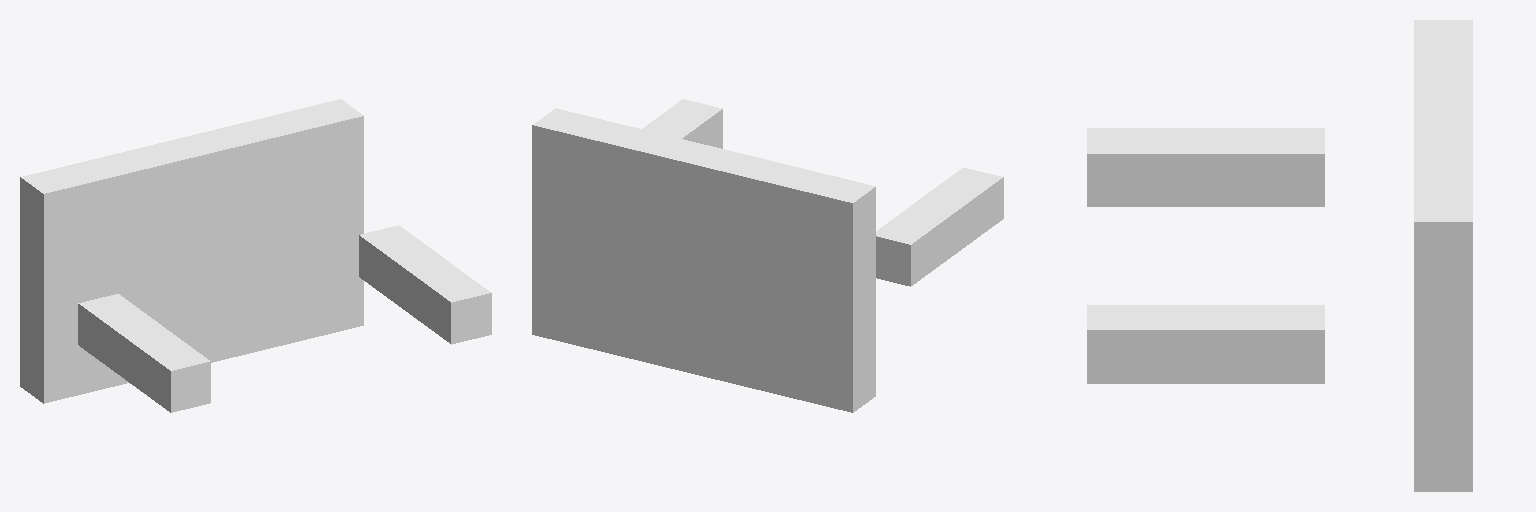
URDF robot description (visual):
<?xml version="1.0"?>
<robot name="visual">
<!-- [author], March 2021 -->
<!-- basic 2-fingers gripper -->
  <link name="base">
  <inertial>
    <mass value="0.1"/>
    <inertia ixx="1" ixy="0" ixz="0" iyy="1" iyz="0" izz="1" />
    <origin/>
  </inertial>
    <visual>
      <geometry>
        <box size="0.08 0.01 0.05"/>
      </geometry>
      <origin rpy="0 0 0" xyz="0 0 0"/>
      <material name="B">
        <color rgba="1 1 1 1"/>
      </material>
    </visual>
  <collision>
      <origin rpy="0 0 0" xyz="0 -0.1 0"/>
    <geometry>
        <box size="0.08 .02 .03"/>
    </geometry>
    <contact_coefficients mu="0" kp="1000.0" kd="1.0"/>
  </collision>
  </link>

  <link name="left_fingertip">
  <inertial>
    <mass value="0.1"/>
    <inertia ixx="1" ixy="0" ixz="0" iyy="1" iyz="0" izz="1" />
    <origin/>
  </inertial>
    <visual>
      <geometry>
        <box size="0.01 .04 .01"/>
      </geometry>
      <origin rpy="0 0 0" xyz="0 0 0"/>
      <material name="white">
        <color rgba="1 1 1 1"/>
      </material>
    </visual>
  <collision>
      <origin rpy="0 0 0" xyz="0 0 0"/>
    <geometry>
        <box size="0.01 .04 .01"/>
    </geometry>
    <contact_coefficients mu="0" kp="1000.0" kd="1.0"/>
  </collision>
  </link>

  <joint name="base_to_left_fingertip" type="prismatic">
    <axis xyz="1 0 0"/>
    <limit effort="1.0" lower="0" upper="1" velocity="0.1"/>
    <parent link="base"/>
    <child link="left_fingertip"/>
    <origin xyz="-0.035 -0.04 0.0"/>
  </joint>

  <link name="right_fingertip">
  <inertial>
    <mass value="0.1"/>
    <inertia ixx="1" ixy="0" ixz="0" iyy="1" iyz="0" izz="1" />
    <origin/>
  </inertial>
    <visual>
      <geometry>
        <box size="0.01 .04 .01"/>
      </geometry>
      <origin rpy="0 0 0" xyz="0 0 0"/>
      <material name="white">
        <color rgba="1 1 1 1"/>
      </material>
    </visual>
  <collision>
     <origin rpy="0 0 0" xyz="0 0 0"/>
    <geometry>
        <box size="0.01 .04 .01"/>
    </geometry>
    <contact_coefficients mu="0" kp="1000.0" kd="1.0"/>
  </collision>
  </link>

  <joint name="base_to_right_fingertip" type="prismatic">
    <axis xyz="1 0 0"/>
    <limit effort="1.0" lower="-1" upper="0.0" velocity="0.1"/>
    <parent link="base"/>
    <child link="right_fingertip"/>
    <origin xyz="0.035 -0.04 -0.00"/>
  </joint>

</robot>

--- Facts derived from the render (not from the file) ---
3 views of the same robot in one strip: view 1: azimuth 30°, elevation 25°; view 2: azimuth 150°, elevation 25°; view 3: azimuth 270°, elevation 25° (orthographic).
Robot: visual — 3 links, 2 joints (2 prismatic); root link base; default pose: every joint at zero.
Visible links, largest first — view 1: base, right_fingertip, left_fingertip; view 2: base, left_fingertip, right_fingertip; view 3: base, left_fingertip, right_fingertip.
Link boxes in pixels (left/top/right/bottom): base: left=20, top=99, right=363, bottom=403; right_fingertip: left=359, top=225, right=491, bottom=344; left_fingertip: left=78, top=294, right=210, bottom=412; base: left=532, top=108, right=875, bottom=412; left_fingertip: left=876, top=167, right=1003, bottom=286; right_fingertip: left=642, top=99, right=722, bottom=148; base: left=1414, top=20, right=1472, bottom=491; left_fingertip: left=1087, top=128, right=1324, bottom=206; right_fingertip: left=1087, top=305, right=1324, bottom=383.
Bounding box of the posed robot: 0.08 × 0.065 × 0.05 m (x, y, z).
Geometry: primitives only (box / cylinder / sphere), no mesh files.